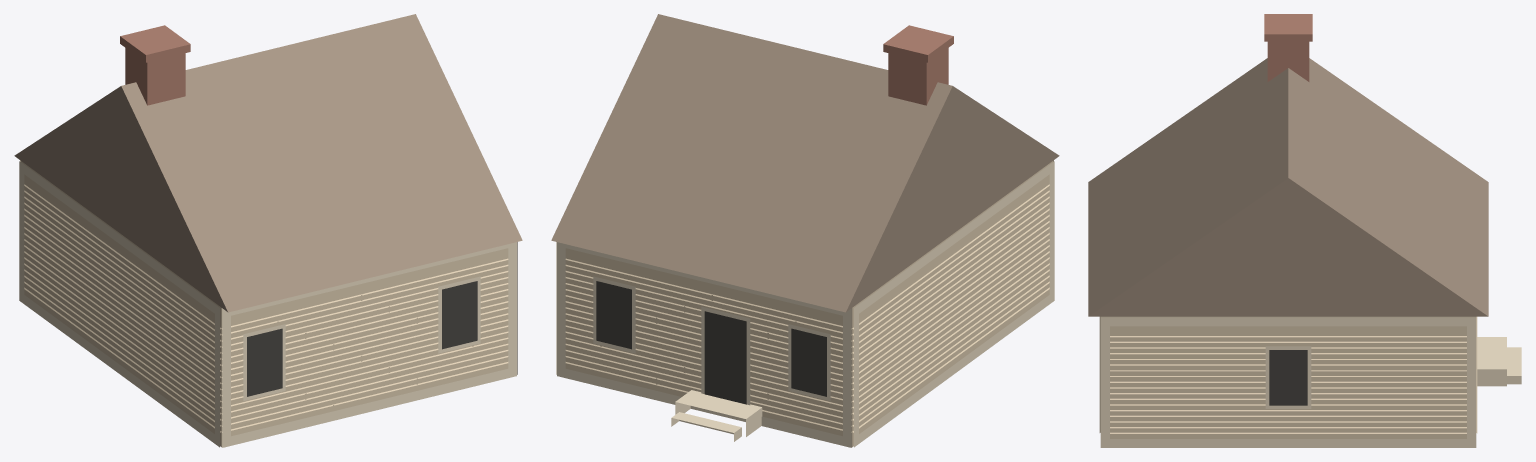
The model's file is recon_1835_blk_south_water_franklin_d4_08__inferred_1835.glb.
3 views of the same model, side by side, from view 1: azimuth 30°, elevation 25°; view 2: azimuth 150°, elevation 25°; view 3: azimuth 270°, elevation 25° (orthographic). The views are drawn at different scales.
Visible parts, largest first — view 1: recon_1835_blk_south_water_franklin_d4_08__inferred_1835; view 2: recon_1835_blk_south_water_franklin_d4_08__inferred_1835; view 3: recon_1835_blk_south_water_franklin_d4_08__inferred_1835.
Part boxes in pixels (x1,y1,x2,y2): recon_1835_blk_south_water_franklin_d4_08__inferred_1835: (14,14,522,447); recon_1835_blk_south_water_franklin_d4_08__inferred_1835: (551,14,1059,447); recon_1835_blk_south_water_franklin_d4_08__inferred_1835: (1088,14,1521,447).
Bounding box in the file's own units: 6.53 × 6.8 × 8.78.
